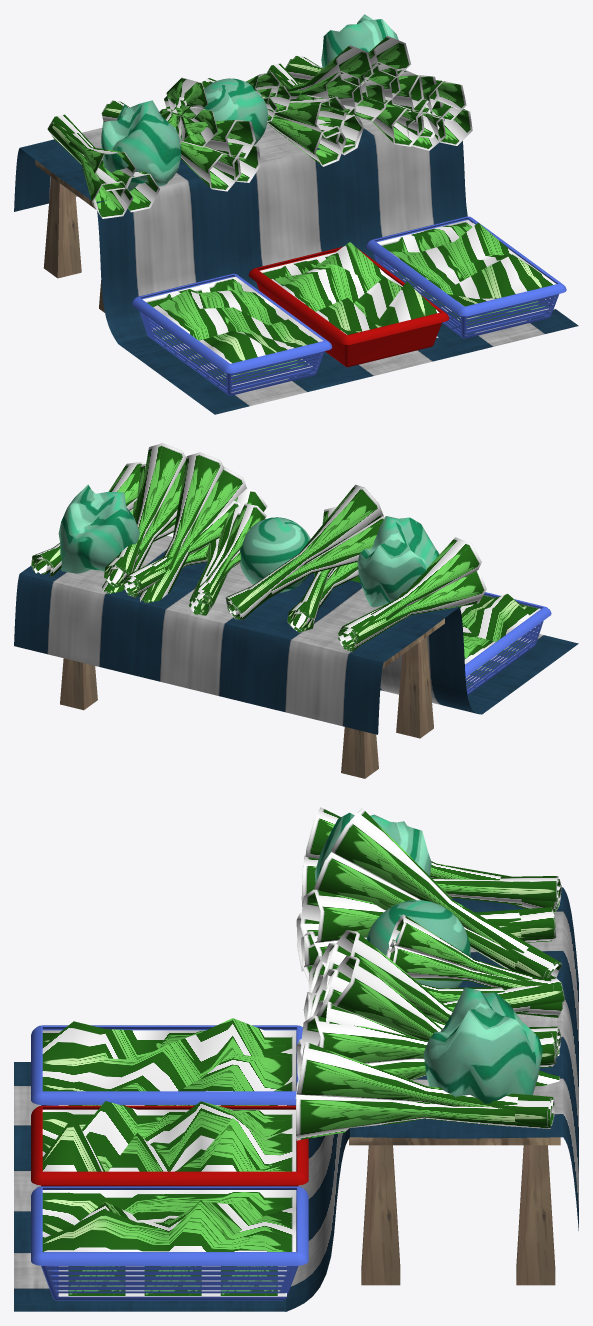
The model's file is VegetableShop.FBX.
3 renders of one model, top to bottom at view 1: azimuth 30°, elevation 25°; view 2: azimuth 150°, elevation 25°; view 3: azimuth 270°, elevation 25°, orthographic. The views are drawn at different scales.
Parts seen in each view (by area): view 1: Line001, Plane002, Plane001, Plane003, ChamferBox001, ChamferBox003, ChamferBox002, GeoSphere002, Cone001, Cone003, Cone009, Cone008 (+11 smaller); view 2: Line001, Cone011, Cone001, Cone008, GeoSphere003, GeoSphere002, Cone005, GeoSphere001, Plane001, Box005, ChamferBox001, Cone006 (+7 smaller); view 3: Line001, Plane001, Plane002, Plane003, ChamferBox003, Cone007, Cone011, GeoSphere003, ChamferBox002, Cone005, Cone003, ChamferBox001 (+11 smaller).
Boxes of the visible parts, x1,y1,x2,y2 form: Line001: [14, 81, 578, 414]; Plane002: [260, 242, 439, 334]; Plane001: [142, 276, 323, 363]; Plane003: [377, 220, 555, 306]; ChamferBox001: [131, 273, 332, 395]; ChamferBox003: [366, 216, 566, 338]; ChamferBox002: [248, 247, 449, 367]; GeoSphere002: [101, 100, 180, 191]; Cone001: [47, 114, 159, 218]; Cone003: [101, 100, 260, 191]; Cone009: [202, 78, 363, 166]; Cone008: [287, 45, 386, 121]; Line001: [14, 535, 578, 734]; Cone011: [225, 484, 384, 619]; Cone001: [338, 537, 486, 652]; Cone008: [139, 452, 246, 603]; GeoSphere003: [58, 484, 139, 573]; GeoSphere002: [357, 516, 439, 607]; Cone005: [102, 443, 186, 593]; GeoSphere001: [240, 517, 310, 592]; Plane001: [459, 594, 540, 664]; Box005: [396, 637, 433, 738]; ChamferBox001: [465, 592, 551, 695]; Cone006: [123, 500, 240, 597]; Line001: [14, 887, 578, 1311]; Plane001: [42, 1018, 296, 1105]; Plane002: [42, 1101, 296, 1171]; Plane003: [42, 1190, 296, 1251]; ChamferBox003: [31, 1186, 308, 1300]; Cone007: [295, 1041, 554, 1140]; Cone011: [314, 808, 561, 978]; GeoSphere003: [423, 987, 542, 1122]; ChamferBox002: [31, 1105, 308, 1186]; Cone005: [309, 955, 559, 1085]; Cone003: [296, 889, 556, 981]; ChamferBox001: [31, 1025, 302, 1105].
Bounding box in the file's own units: 89.14 × 50.47 × 81.76.
Materials: 6 (5 with a texture image).
